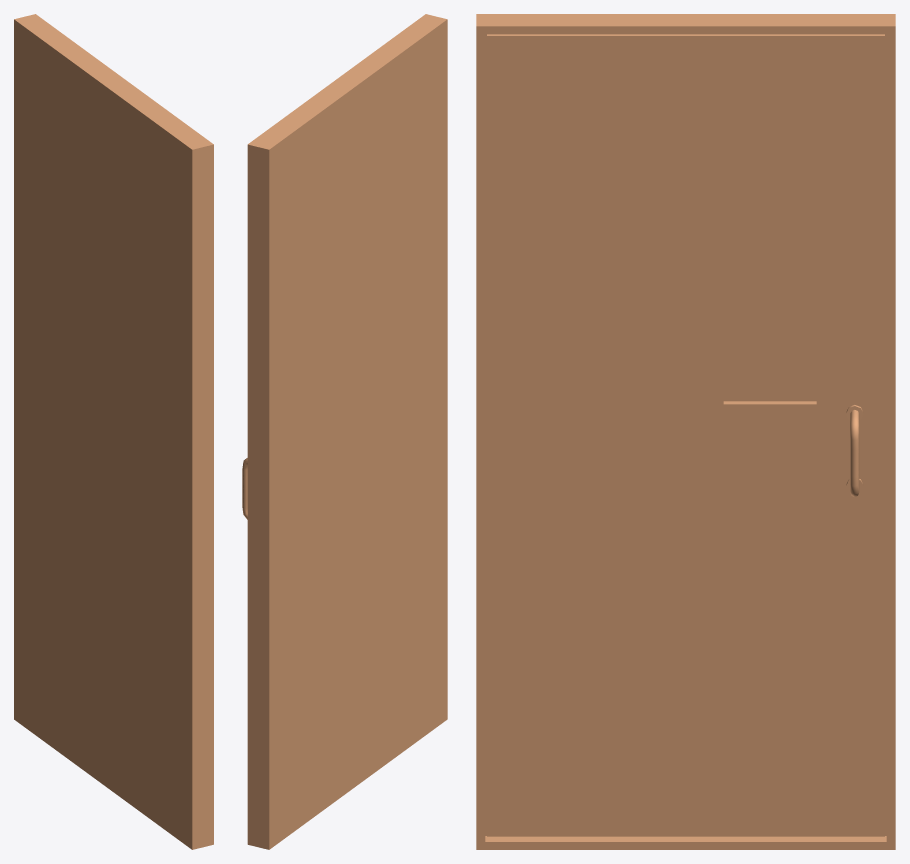
File: Door Closed.fbx
The picture shows the model from 3 angles, left to right: view 1: azimuth 30°, elevation 25°; view 2: azimuth 150°, elevation 25°; view 3: azimuth 270°, elevation 25°; orthographic projection. The views are drawn at different scales.
Visible parts, largest first — view 1: Cube.006; view 2: Cube.006; view 3: Cube.004, Cube.006, NurbsPath.001.
Boxes of the visible parts, left/top/right/bottom form: Cube.006: left=14, top=14, right=213, bottom=849; Cube.006: left=247, top=14, right=447, bottom=849; Cube.004: left=487, top=34, right=884, bottom=836; Cube.006: left=476, top=14, right=895, bottom=849; NurbsPath.001: left=846, top=405, right=863, bottom=496.
Bounding box in the file's own units: 15.5 × 237 × 109.
